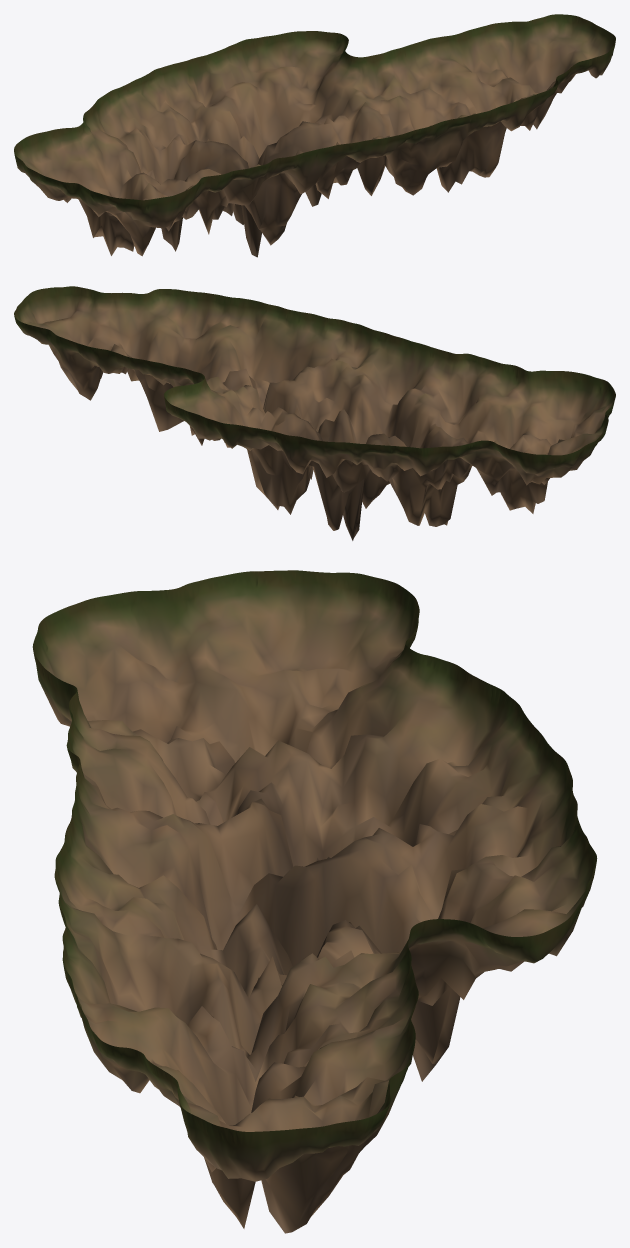
Rendered from SM_H17_IslandRock.fbx.
The picture shows the model from 3 angles, top to bottom: view 1: azimuth 30°, elevation 25°; view 2: azimuth 150°, elevation 25°; view 3: azimuth 270°, elevation 25°; orthographic projection. The views are drawn at different scales.
Parts seen in each view (by area): view 1: SM_H17_IslandRock; view 2: SM_H17_IslandRock; view 3: SM_H17_IslandRock.
Boxes of the visible parts, x1,y1,x2,y2 form: SM_H17_IslandRock: [14, 14, 615, 257]; SM_H17_IslandRock: [14, 286, 615, 540]; SM_H17_IslandRock: [32, 570, 597, 1233].
Size of the model in its own units: 379 by 97.2 by 161.
